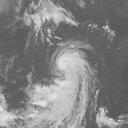cyclone: (46, 45, 94, 120)
